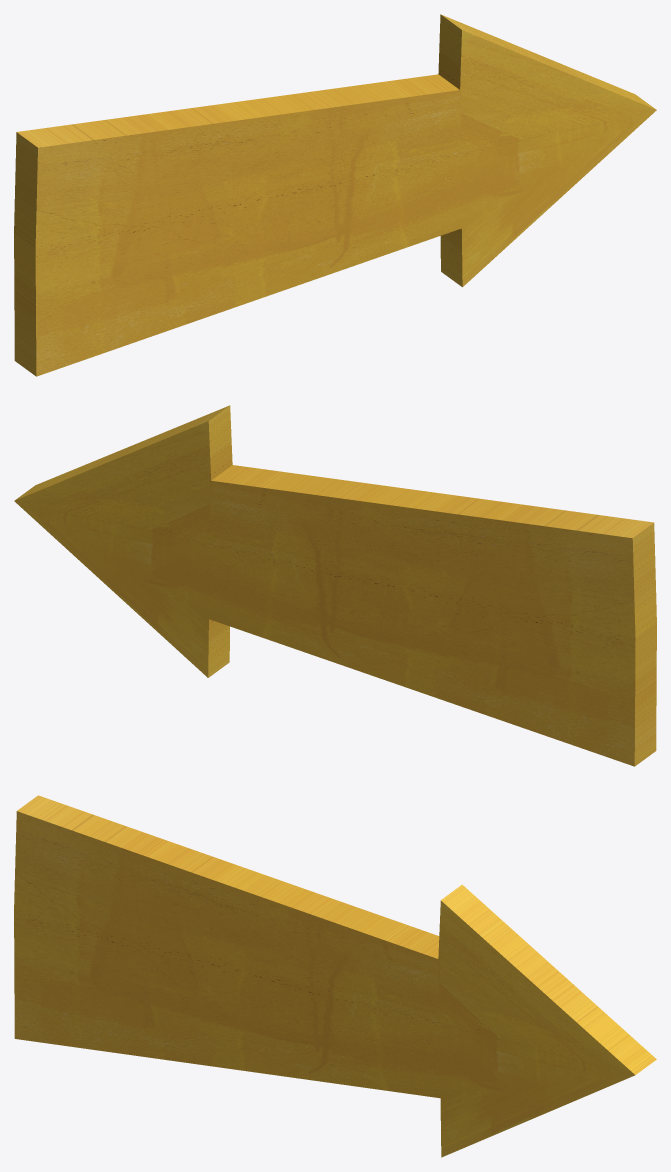
The model's file is flecha.glb.
The picture shows the model from 3 angles, top to bottom: view 1: azimuth 30°, elevation 25°; view 2: azimuth 150°, elevation 25°; view 3: azimuth 330°, elevation 25°; orthographic projection.
Visible parts, largest first — view 1: Plano; view 2: Plano; view 3: Plano.
Boxes of the visible parts, x1,y1,x2,y2 form: Plano: [14, 14, 656, 376]; Plano: [14, 405, 656, 766]; Plano: [14, 795, 656, 1157].
Bounding box in the file's own units: 2.98 × 1.18 × 0.1821.
Materials: 1 (1 with a texture image).
